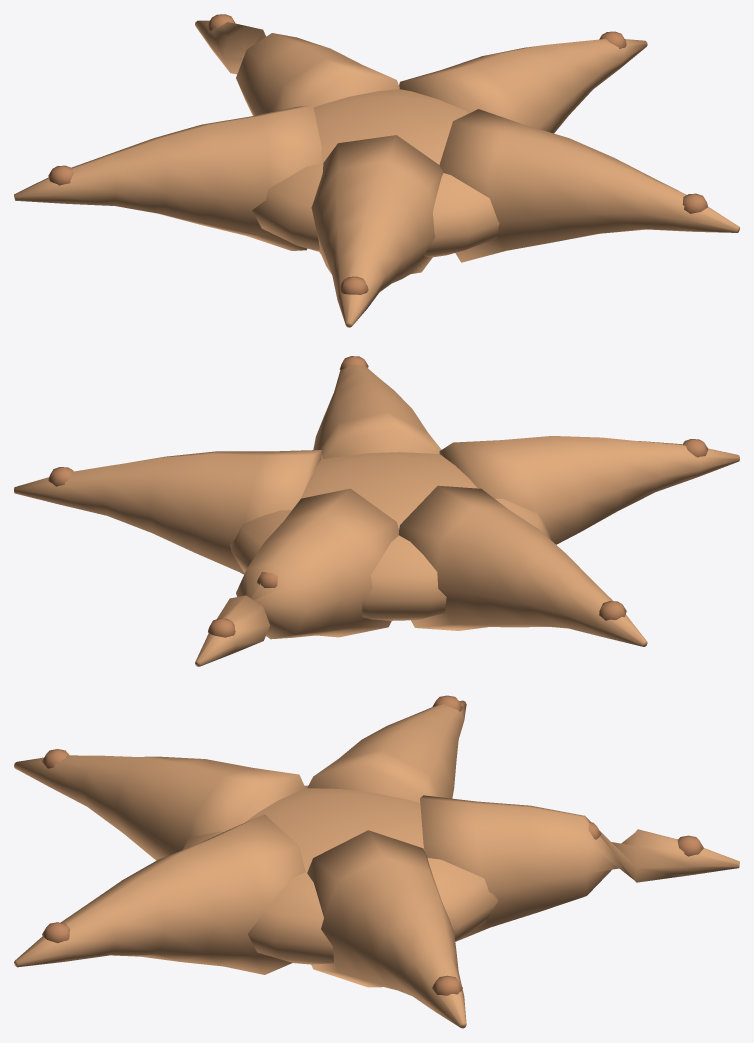
Rendered from starfish.glb.
3 views of the same model, one above another, from view 1: azimuth 30°, elevation 25°; view 2: azimuth 150°, elevation 25°; view 3: azimuth 270°, elevation 25° (orthographic). The views are drawn at different scales.
Parts seen in each view (by area): view 1: Starfish; view 2: Starfish; view 3: Starfish.
Boxes of the visible parts, x1,y1,x2,y2 form: Starfish: [14, 14, 739, 327]; Starfish: [14, 356, 739, 666]; Starfish: [14, 695, 739, 1028].
Size of the model in its own units: 1.07 by 0.2274 by 1.02.
